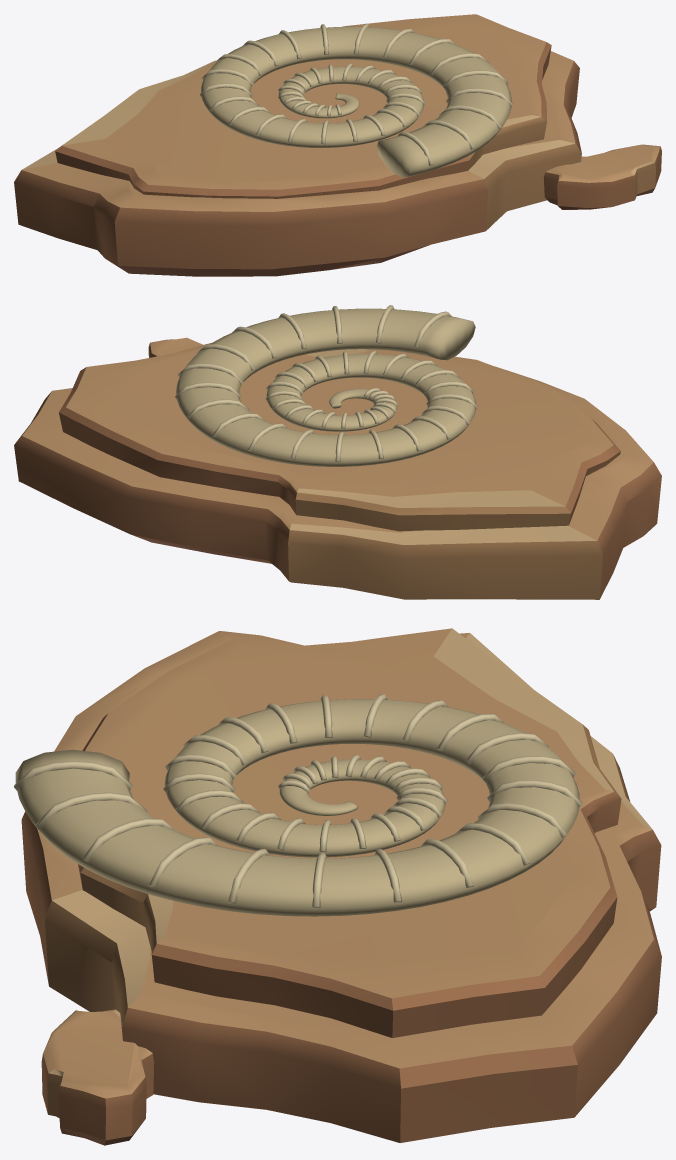
File: fw_petra_raw_fossil.hi.glb
3 renders of one model, top to bottom at view 1: azimuth 30°, elevation 25°; view 2: azimuth 150°, elevation 25°; view 3: azimuth 270°, elevation 25°, orthographic. The views are drawn at different scales.
Visible parts, largest first — view 1: body; view 2: body; view 3: body.
Boxes of the visible parts, left/top/right/bottom form: body: left=14, top=14, right=661, bottom=276; body: left=14, top=305, right=661, bottom=599; body: left=14, top=628, right=661, bottom=1145.
Size of the model in its own units: 2.23 by 0.4391 by 1.4.
